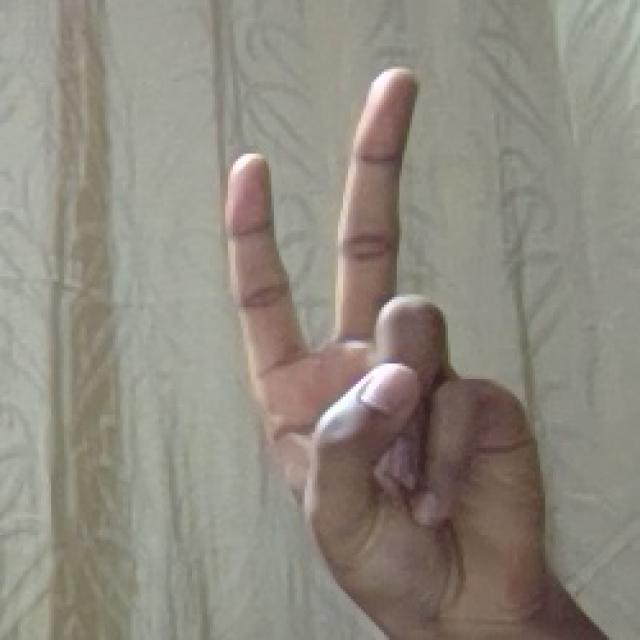Numeric-2: (224, 57, 550, 617)
